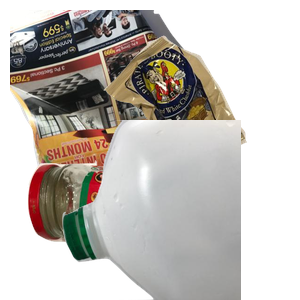glass: (25, 155, 227, 300)
paper: (10, 10, 241, 188)
plastic: (60, 120, 300, 300)
trash: (101, 33, 300, 206)
